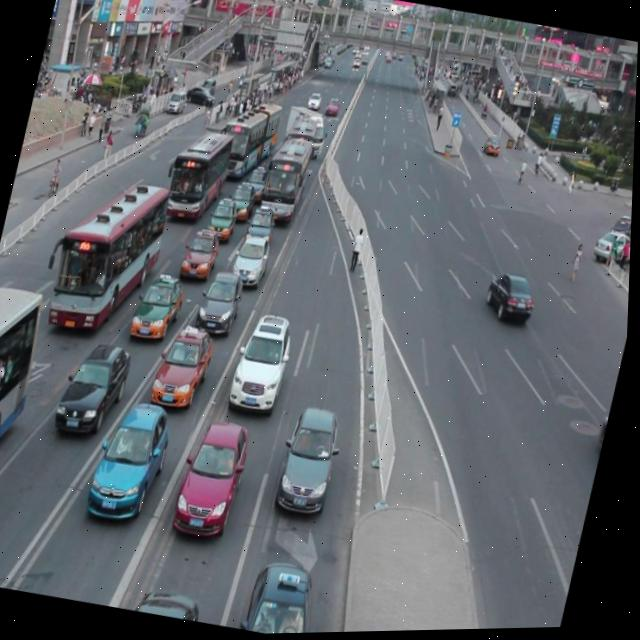bus: (281, 106, 332, 162)
car: (88, 396, 181, 527), (174, 416, 258, 540), (276, 403, 351, 517), (57, 337, 137, 438), (230, 311, 300, 413), (151, 323, 220, 413), (247, 560, 329, 635), (131, 269, 191, 343), (196, 268, 249, 338), (484, 271, 540, 326), (181, 227, 224, 283), (232, 235, 277, 288), (207, 196, 243, 243), (592, 229, 633, 269), (246, 204, 280, 249), (228, 181, 260, 222), (244, 165, 271, 203), (483, 136, 503, 160)
van: (38, 167, 177, 341), (0, 283, 54, 510), (159, 126, 236, 226), (215, 97, 286, 185), (259, 134, 316, 225), (281, 115, 322, 171)
